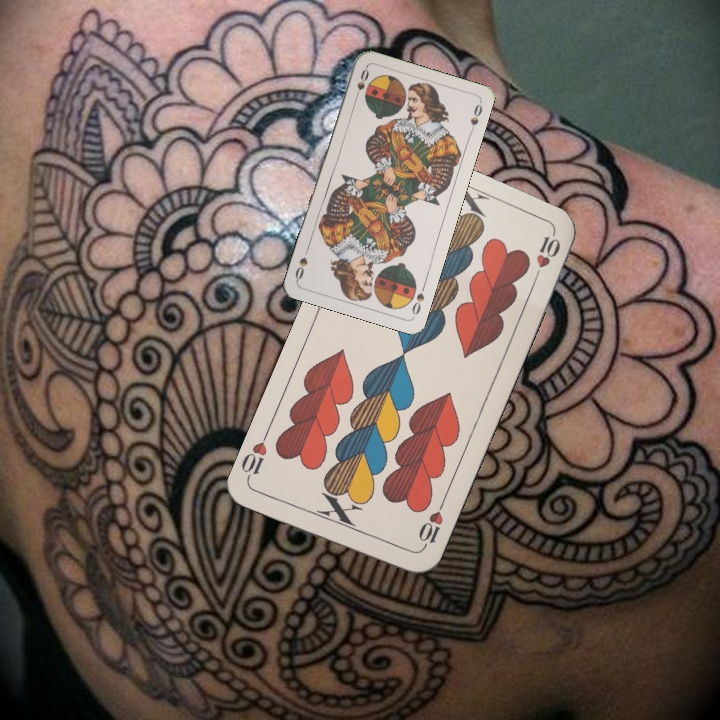H10: (414, 498, 447, 554)
SO: (351, 64, 372, 104), (408, 279, 428, 318)
